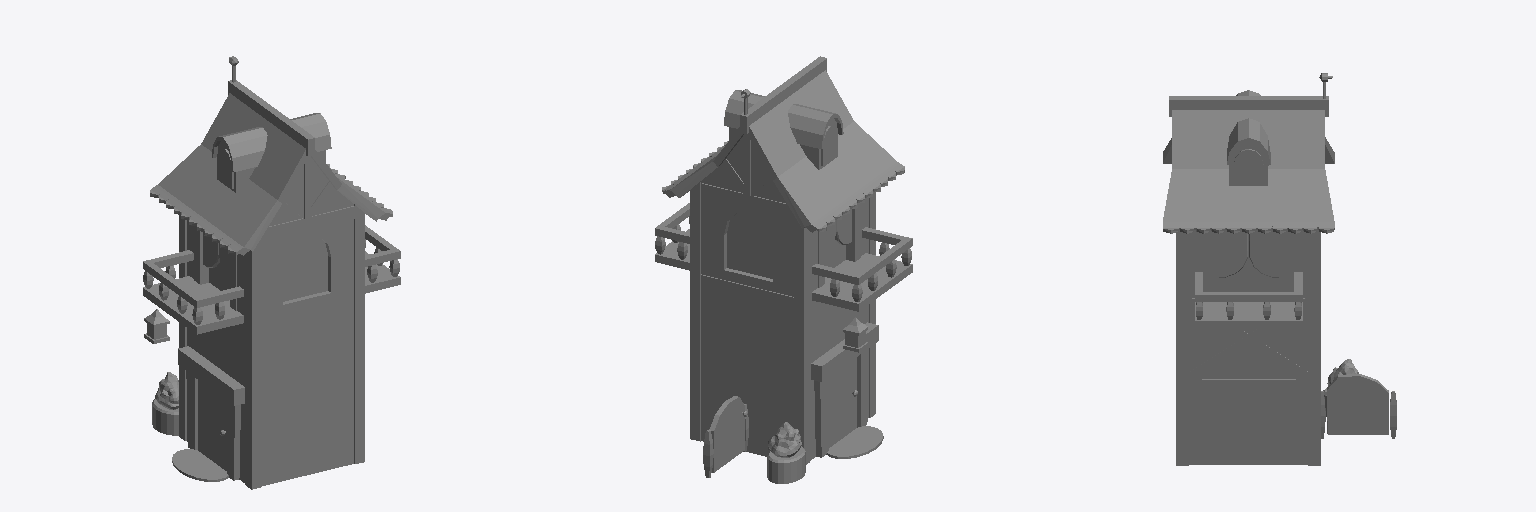
The model's file is House_Part1.obj.
The picture shows the model from 3 angles: view 1: azimuth 30°, elevation 25°; view 2: azimuth 150°, elevation 25°; view 3: azimuth 270°, elevation 25°; orthographic projection.
Visible parts, largest first — view 1: miniHouse_Part1; view 2: miniHouse_Part1; view 3: miniHouse_Part1.
Boxes of the visible parts, <box> form: miniHouse_Part1: <box>143,56,400,489</box>; miniHouse_Part1: <box>655,56,912,483</box>; miniHouse_Part1: <box>1163,73,1396,465</box>.
Bounding box in the file's own units: 25.65 × 43.73 × 25.52.